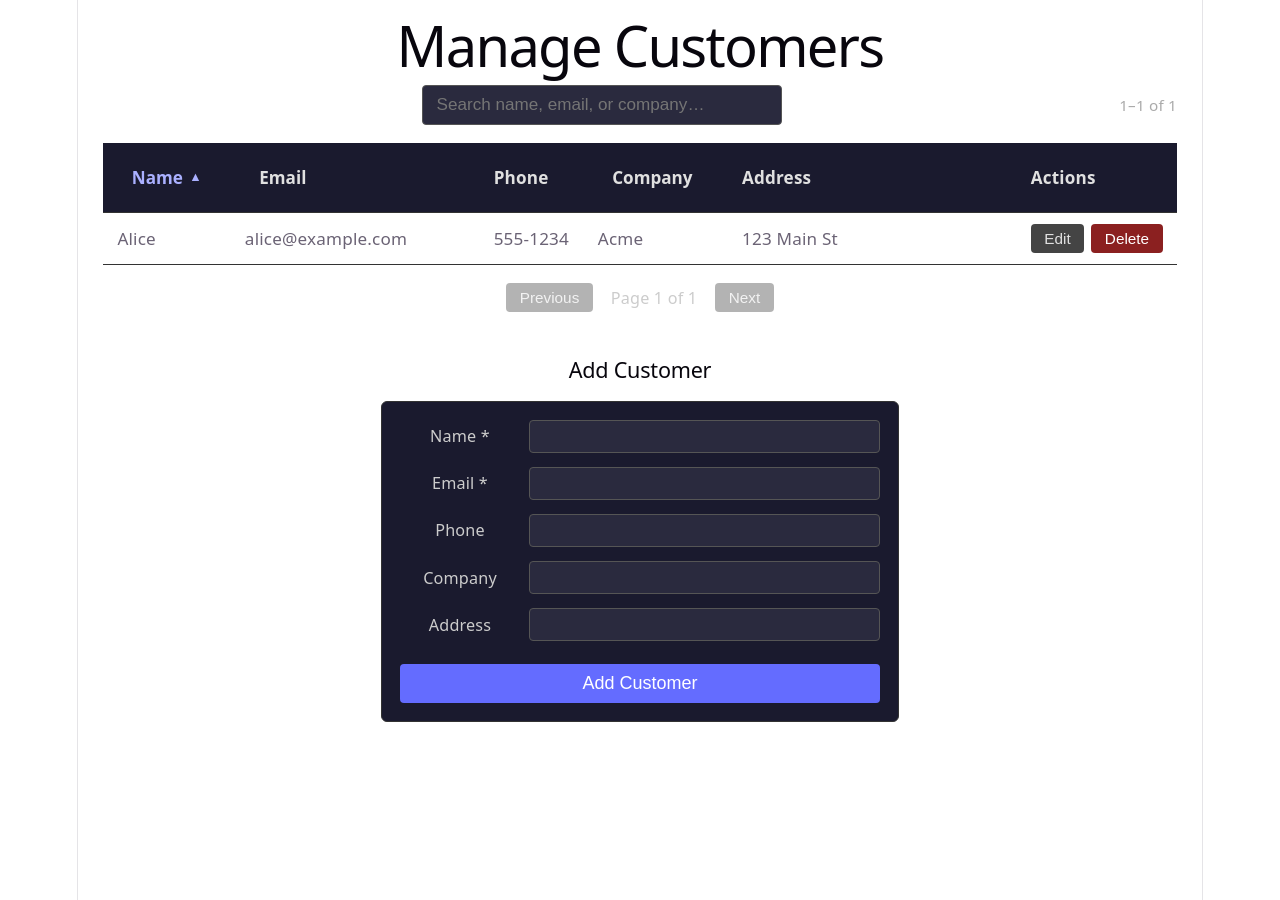
Test: Customers page › shows an error when saving an edit fails
Check: the text "Alice" is shown, box [103, 213, 230, 265]
Step 1. Click the button "Edit" → [1058, 239], box [1031, 224, 1084, 253]
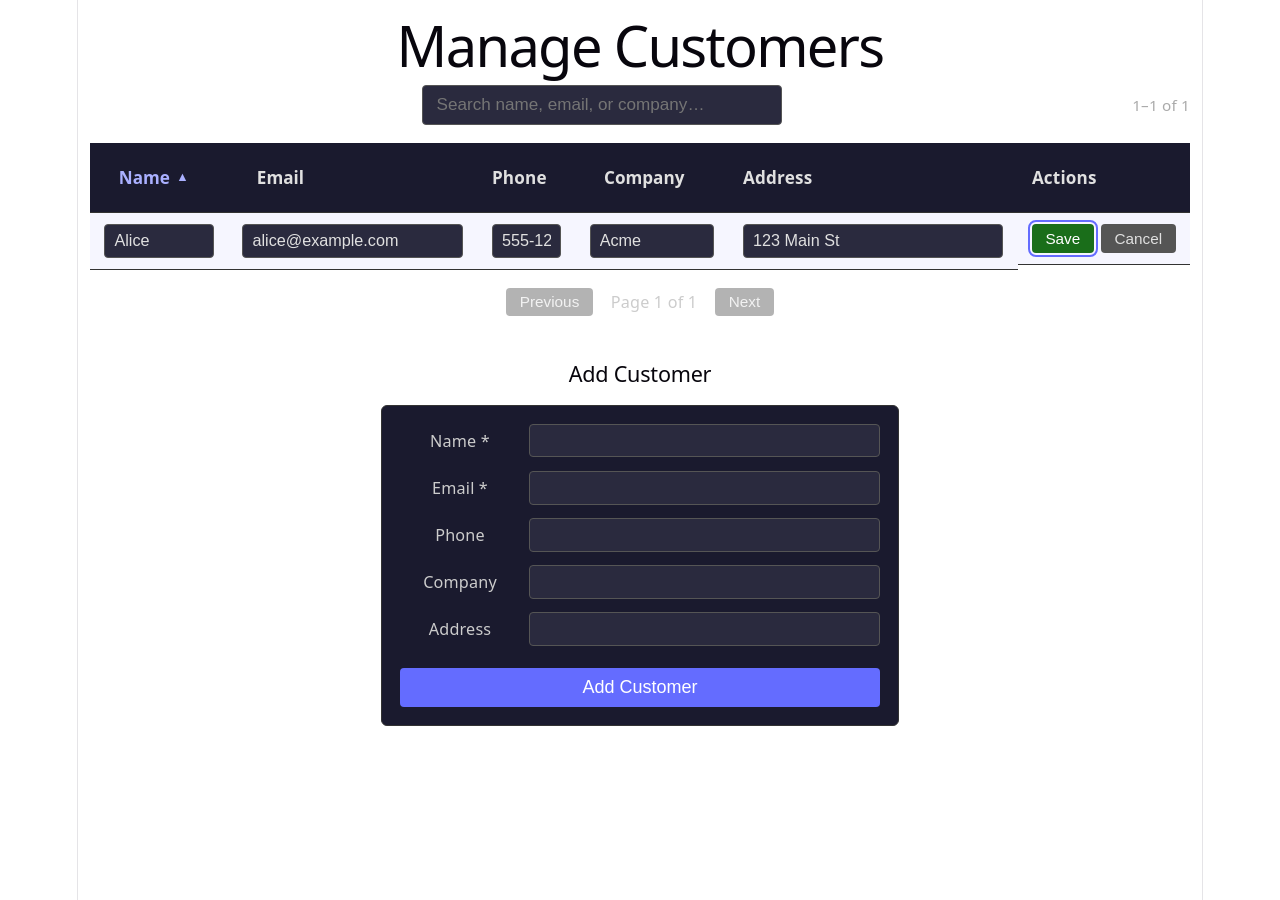
Step 2. Click the button "Save" → [1063, 239], box [1032, 224, 1094, 253]
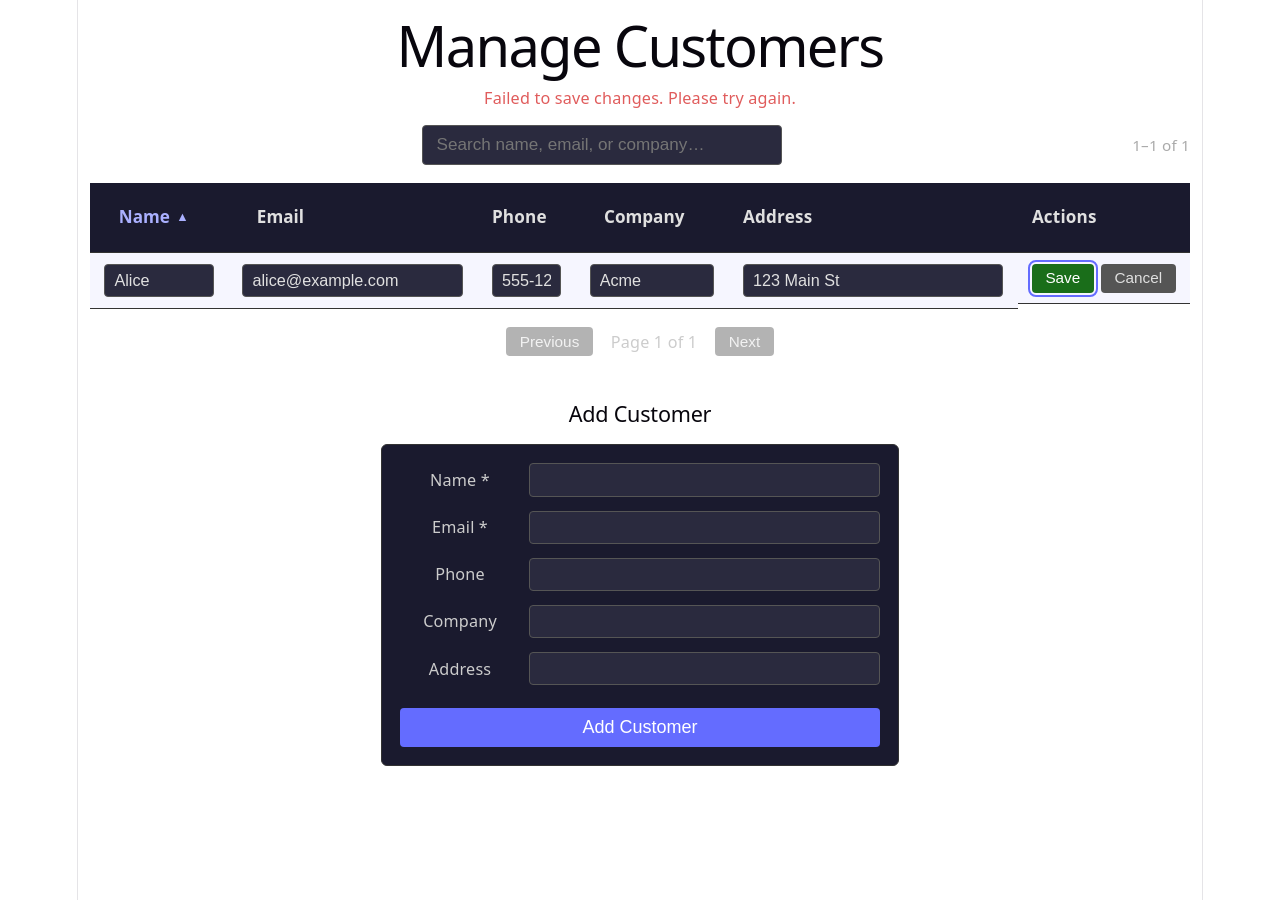
Check: the text "Failed to save changes. Please try again." is shown, box [484, 87, 796, 109]
